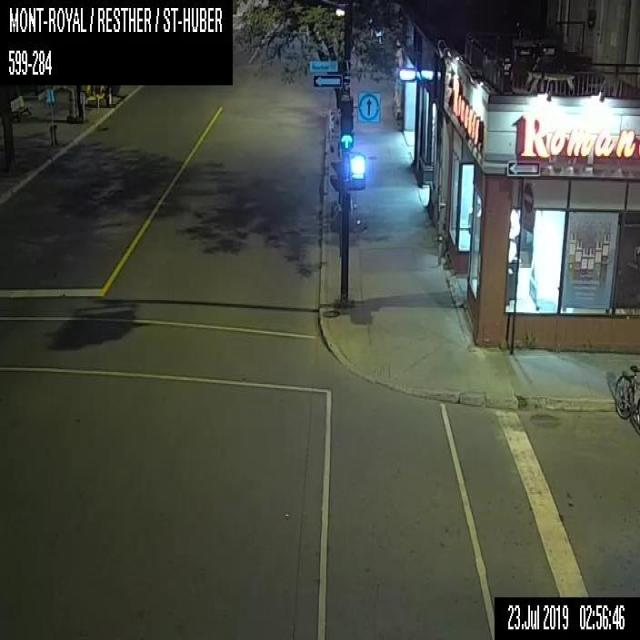construction: (68, 90, 76, 116)
